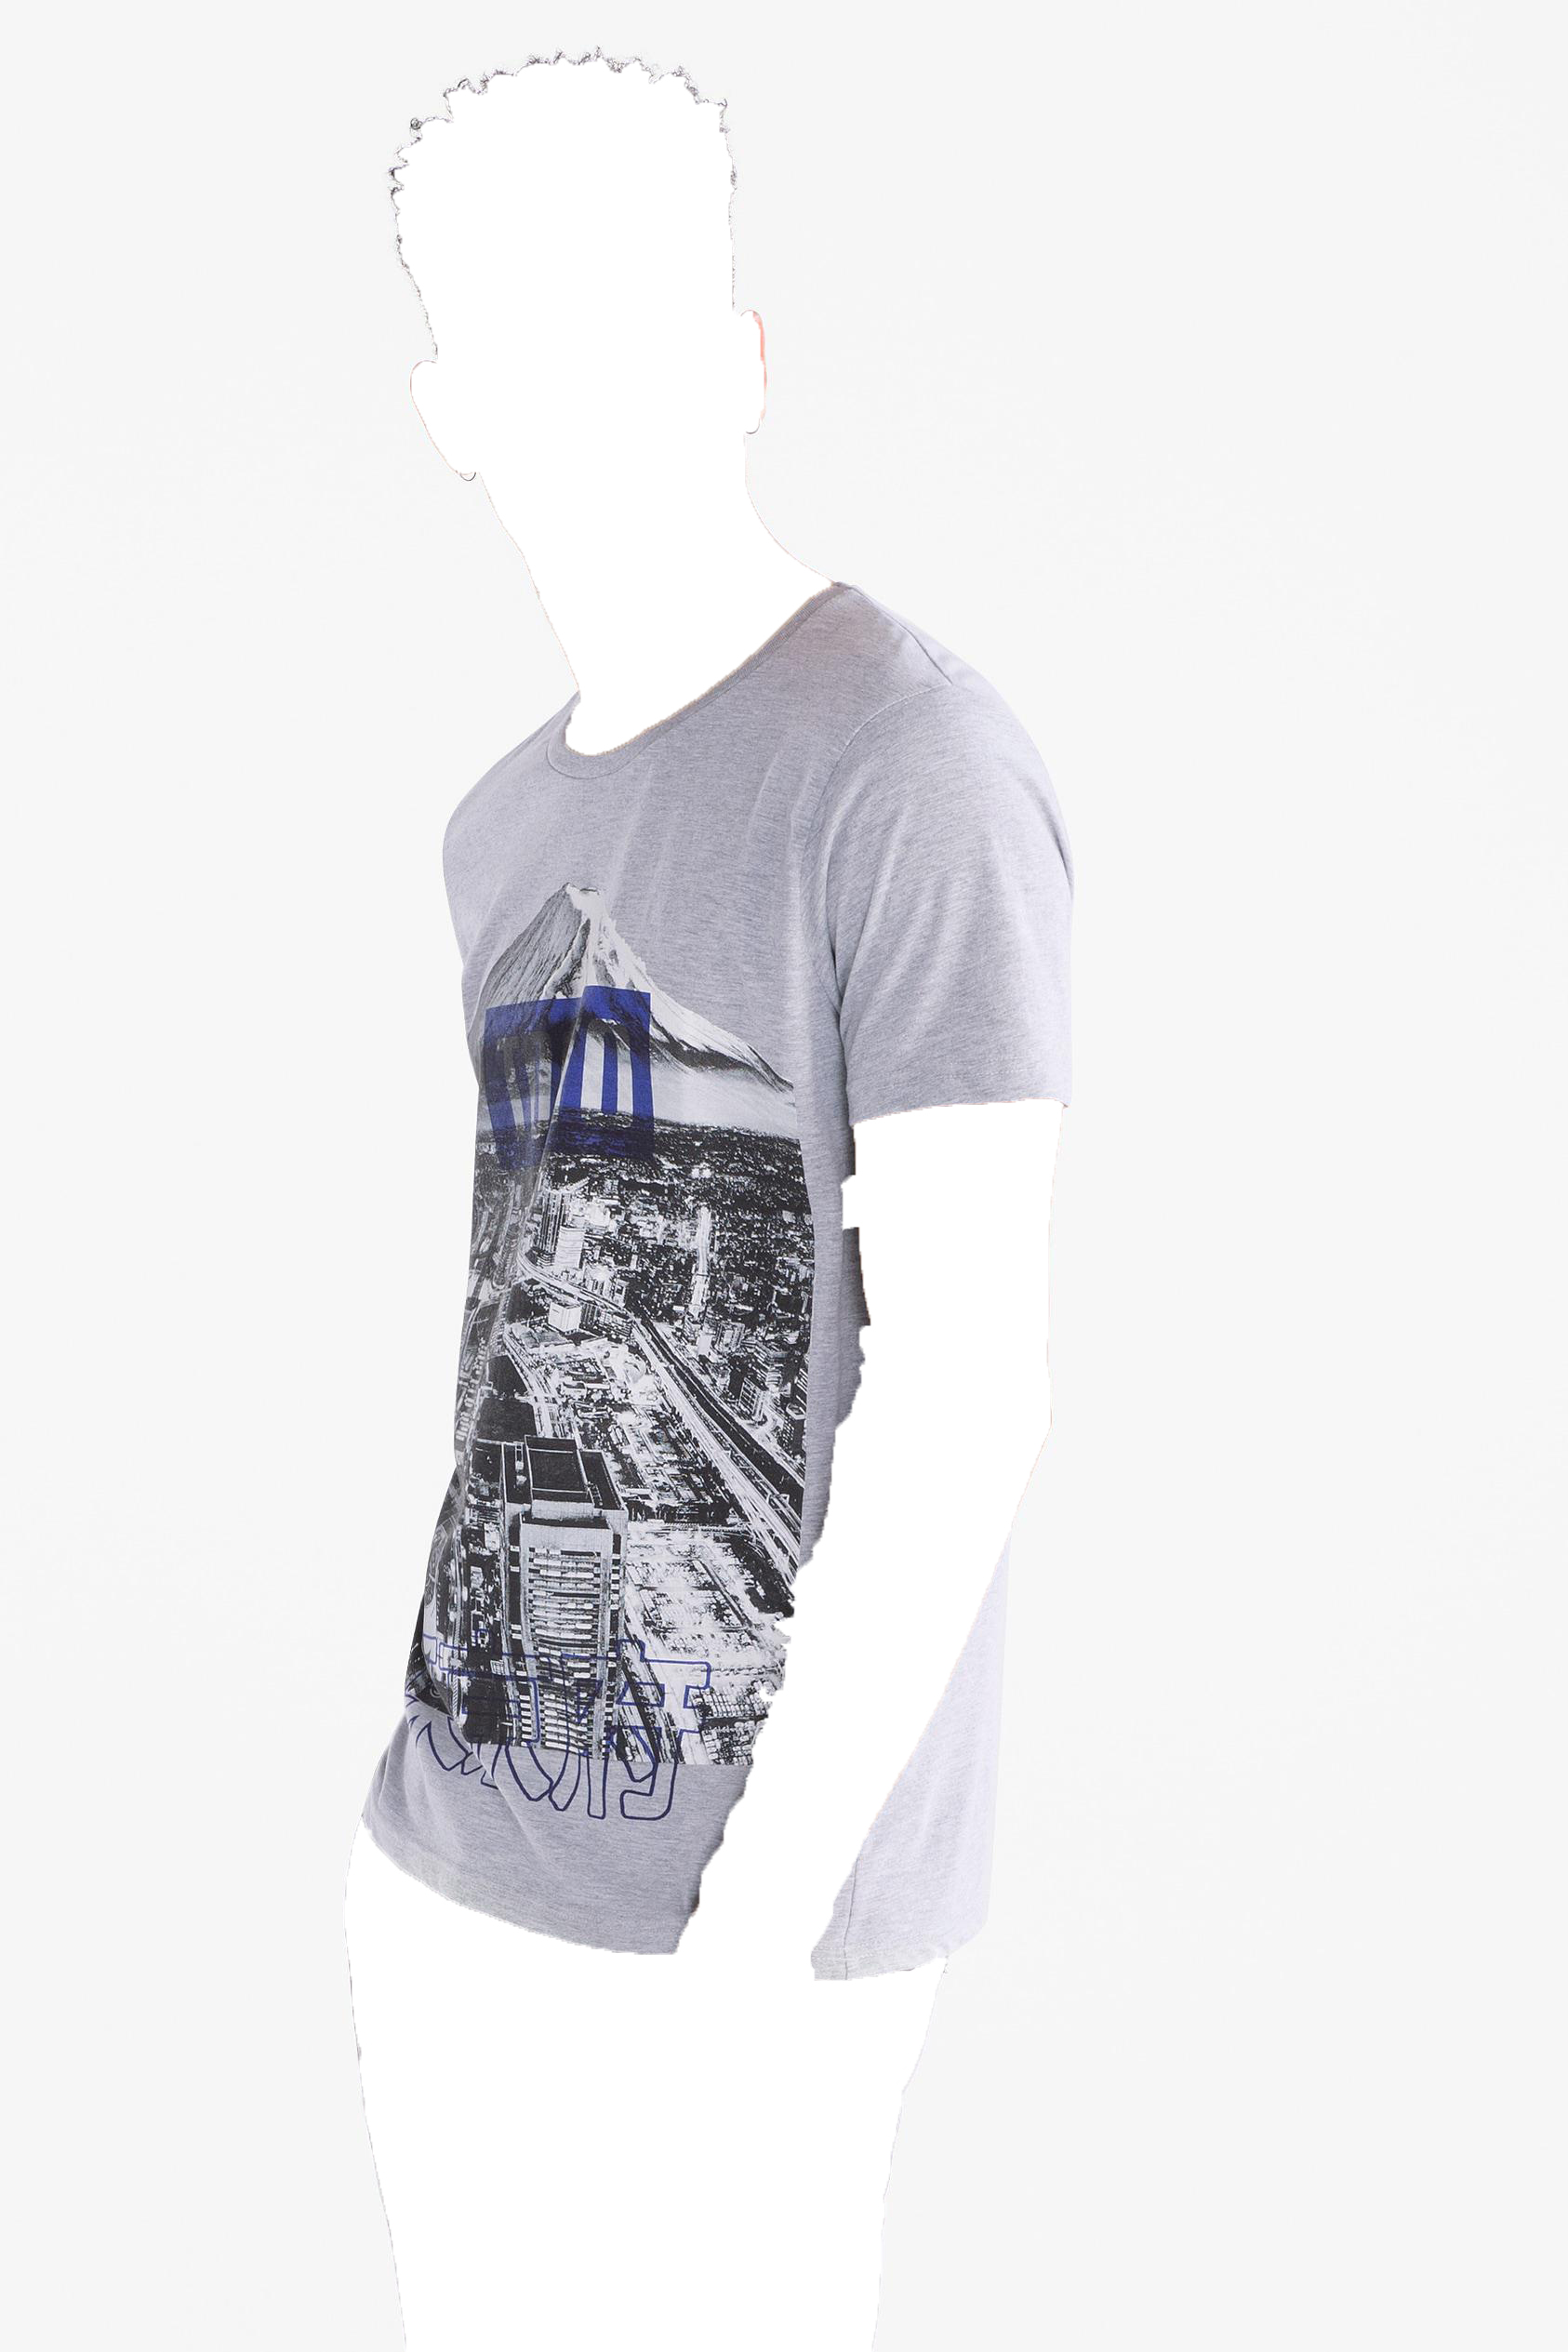teeshirt: (331, 588, 1139, 1962)
